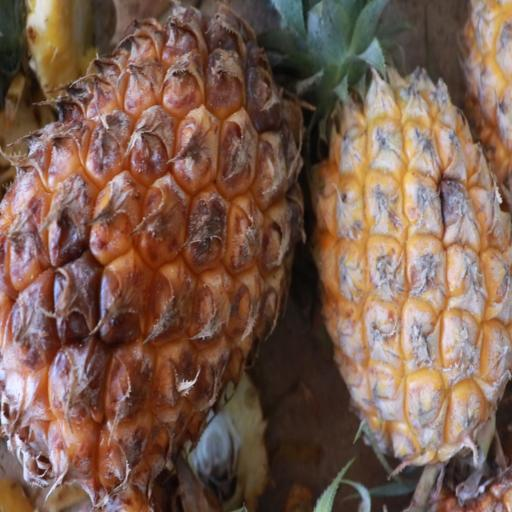Pineapple - v8 v1: (0, 0, 307, 501), (312, 3, 512, 481)
